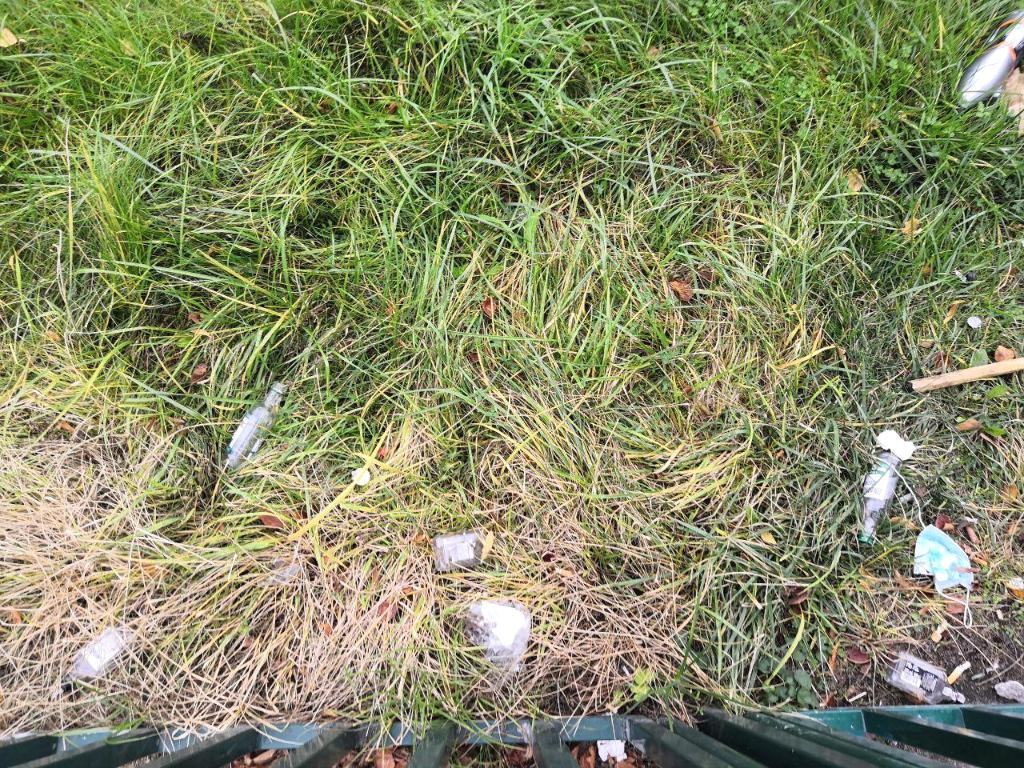garbage: (910, 526, 974, 622), (460, 597, 530, 674), (859, 443, 906, 538), (435, 531, 483, 570), (878, 425, 918, 460)
